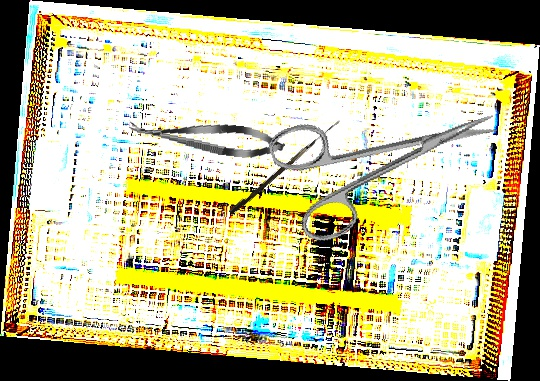Hook Surgical: (228, 115, 341, 217)
Iris Scissors: (265, 70, 514, 249)
Micro Scissor: (126, 112, 287, 163)
